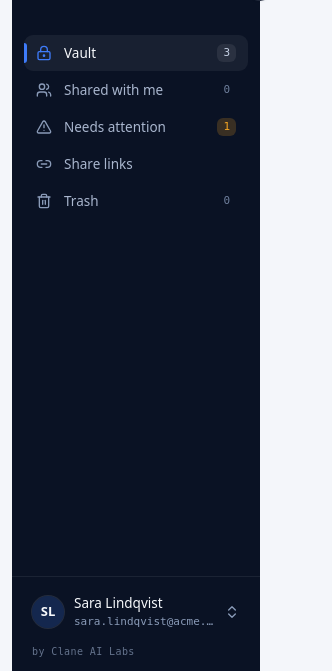
Test: account menu (sidebar footer) › shows the avatar, name and email; the vault sections are links in the sidebar, the rest is in the menu
Expected: the button with aria-label "Account menu: Sara Lindqvist" shows "SL", [24,585,248,638]
Expected: the button with aria-label "Account menu: Sara Lindqvist" shows "Sara Lindqvist", [24,585,248,638]
Click the link "Trash 0" at {"x": 81, "y": 201}, box [36,192,230,210]
(page scrolled)
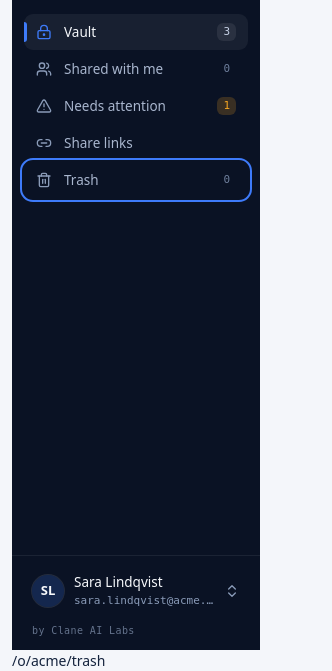
Now the text with test id "where" reads "/o/acme/trash", box [12,651,105,670]
